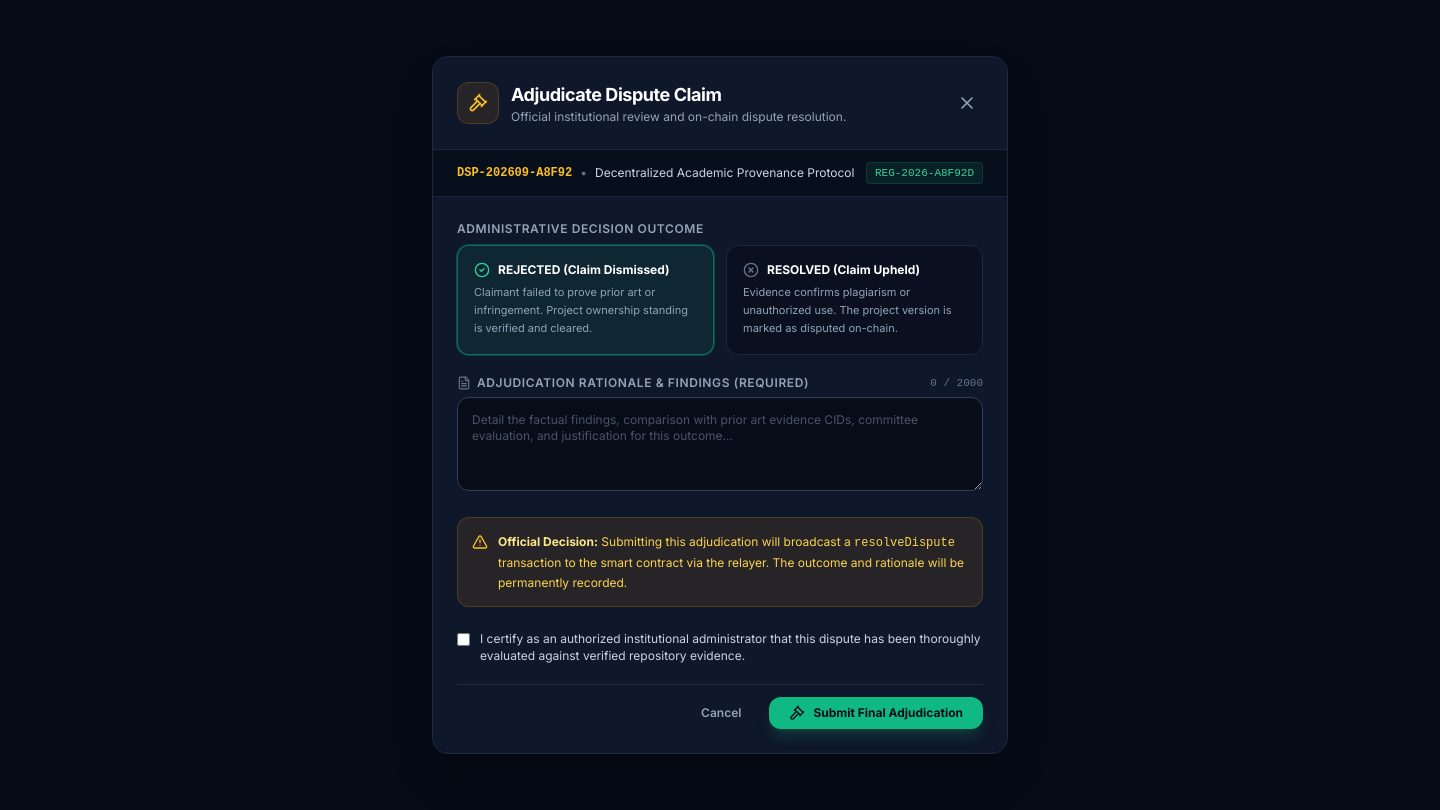
Test: Frontend Disputes & Resolution Module Tests › Admin Dispute Adjudication Workflow › handles 409 Conflict error when dispute is already resolved
Replace the text in the text box with placeholder "Detail the factual findings" with "Administrative decision notes test." at (720,444), box [457,397,983,491]
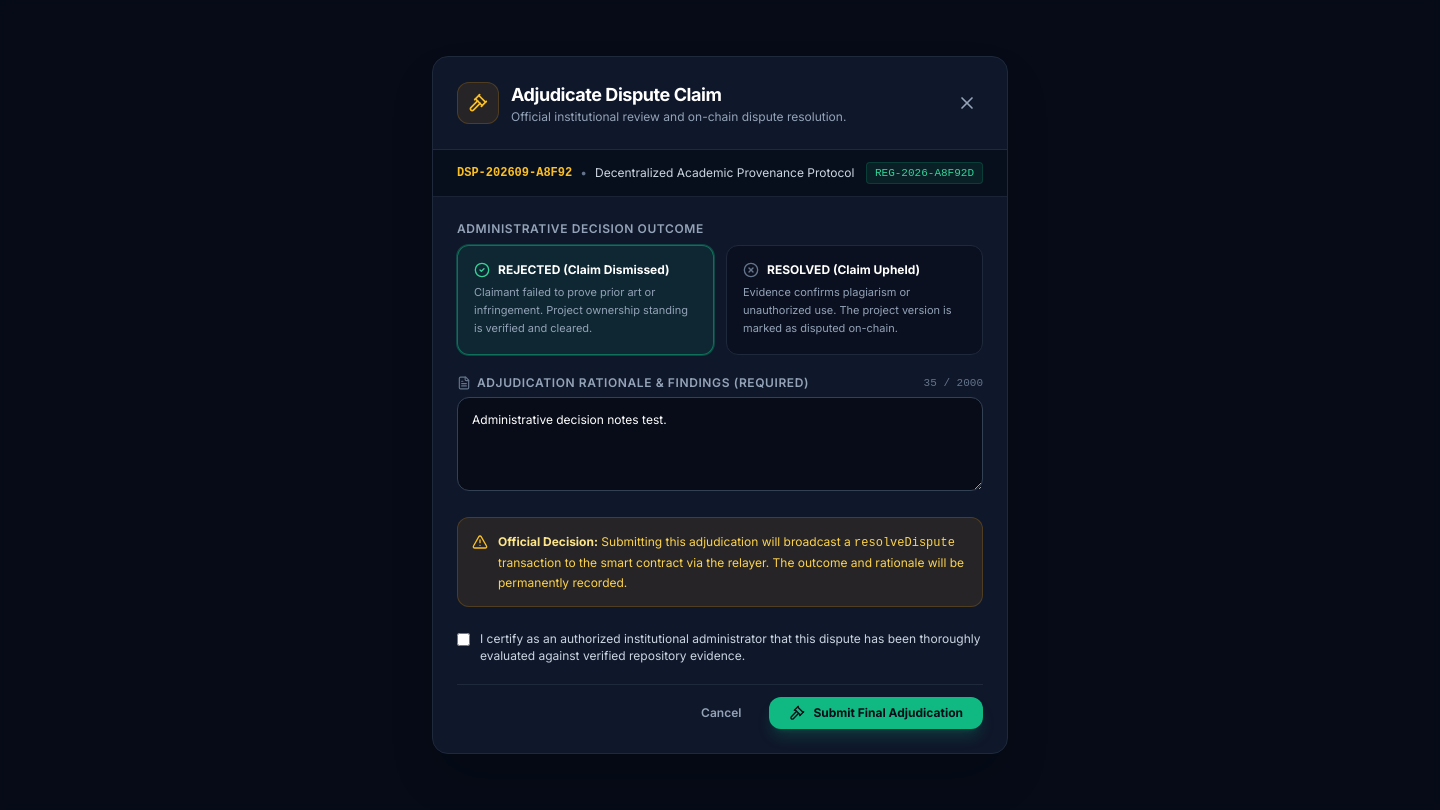
Click the checkbox.
click(464, 640)  # box [457,633,470,646]
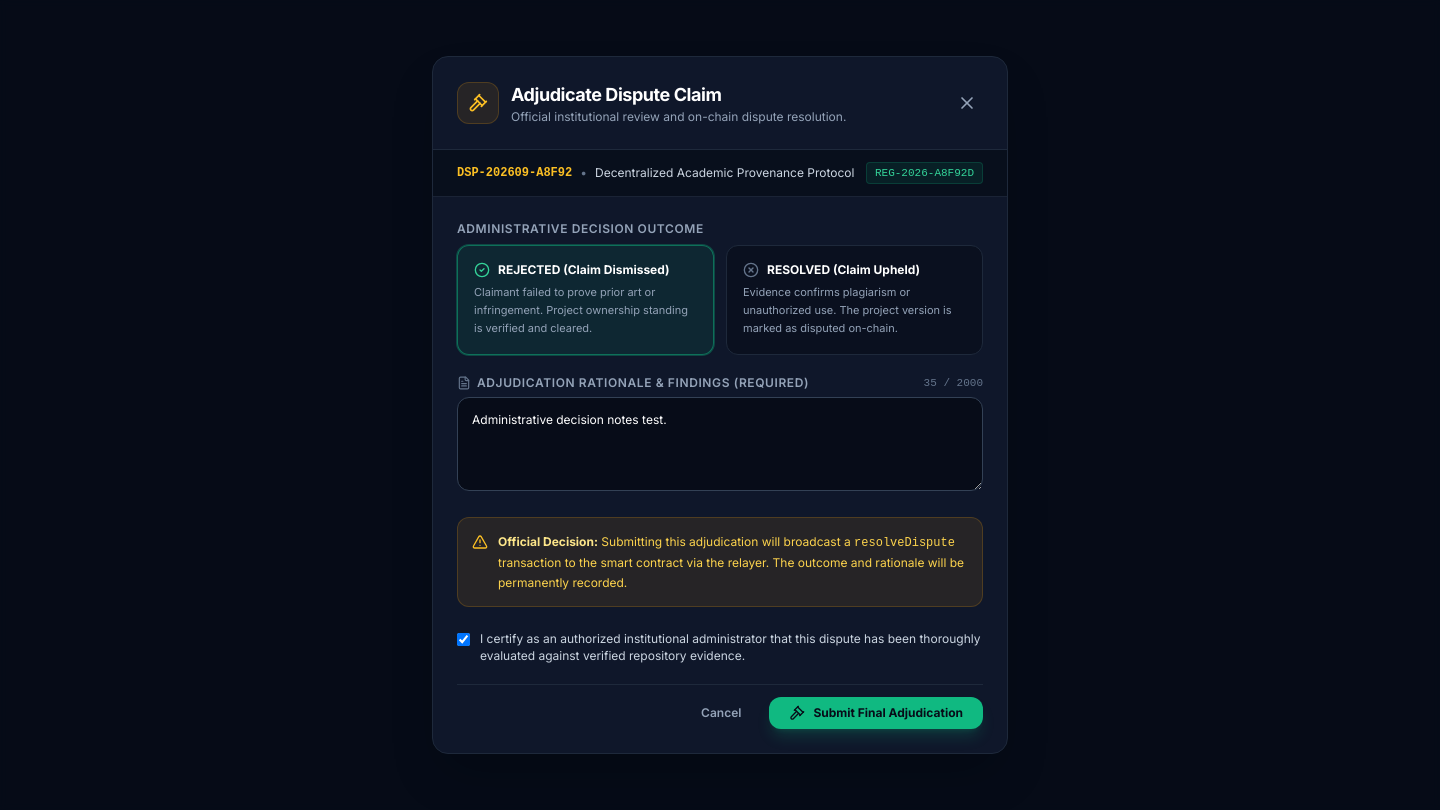
Click the button "Submit Final Adjudication".
click(876, 713)  # box [769,697,983,729]
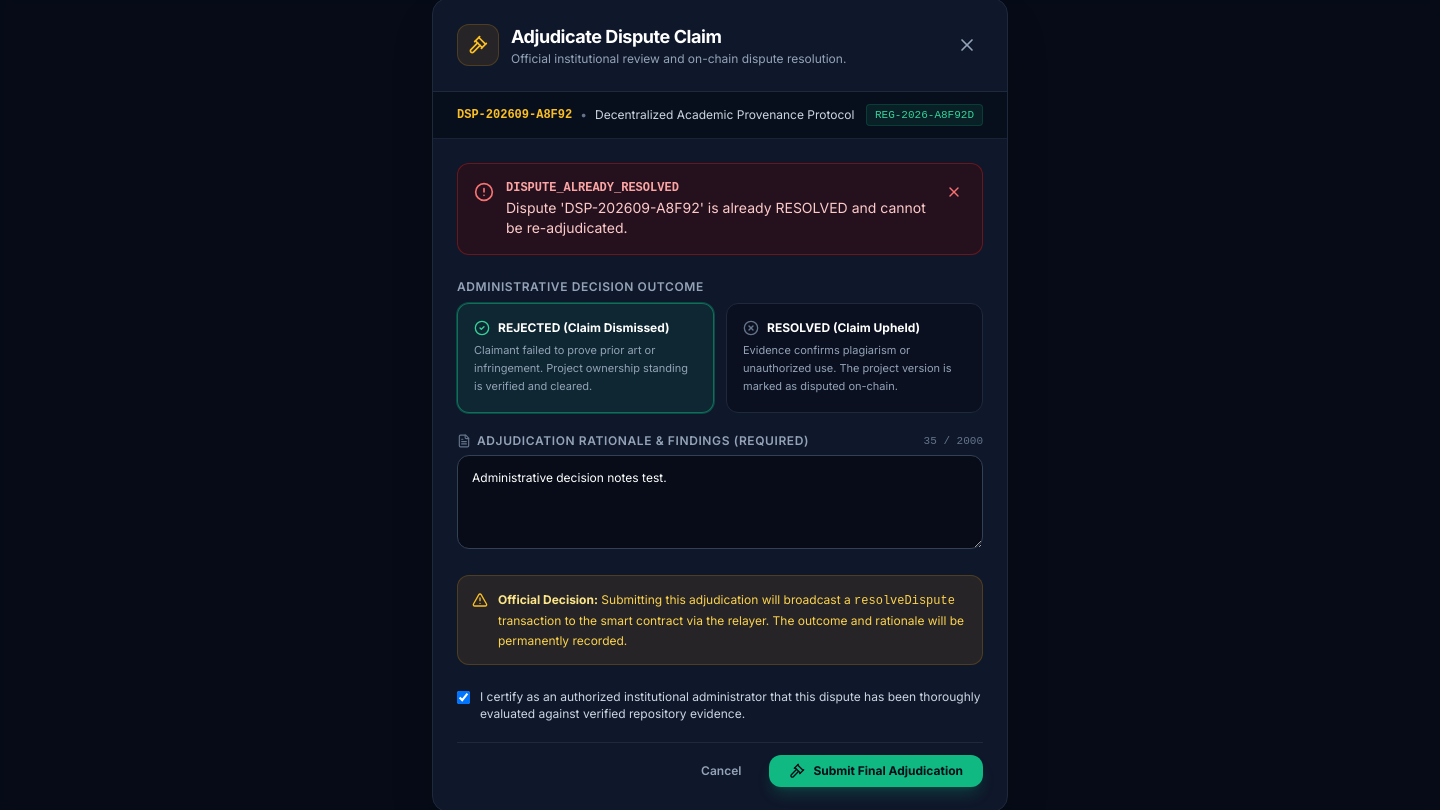
Expected: the text "Dispute 'DSP-202609-A8F92' is already RESOLVED and cannot be re-adjudicated." is shown, [506,198,930,238]
